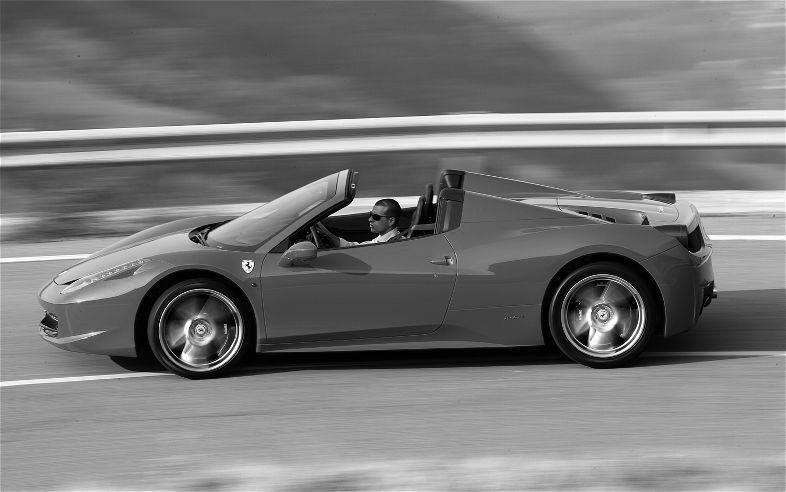car: (42, 163, 725, 382)
